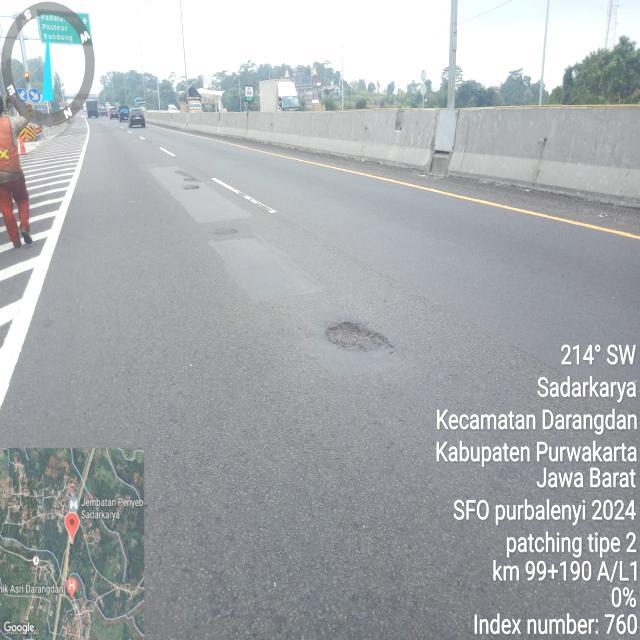Buraco: (322, 319, 397, 354), (172, 169, 203, 183), (182, 184, 202, 192)
